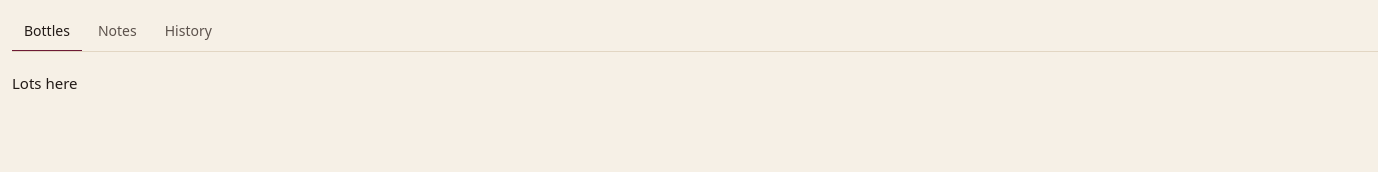
Test: Tabs › shows the selected panel and switches on click
Expected: the element named "Wine sections" is shown, [12,12,1377,52]
Expected: the panel named "Bottles" reads "Lots here", [12,73,78,93]
Click the tab "Notes". click: [117, 32]
box: [86,12,149,52]
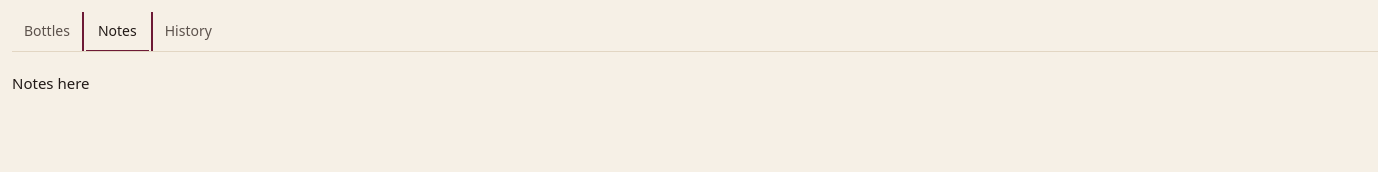
Result: the panel "Notes" reads "Notes here" at [12,73,90,93]
